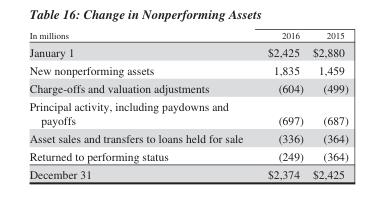table: (28, 29, 347, 180)
table column: (28, 29, 254, 180), (254, 29, 307, 180), (307, 29, 347, 180)
table column header: (28, 29, 347, 42)
table row: (28, 96, 347, 129), (28, 42, 347, 60), (28, 60, 347, 78), (28, 78, 347, 96), (28, 129, 347, 147), (28, 147, 347, 165), (28, 165, 347, 180), (28, 29, 347, 42)
